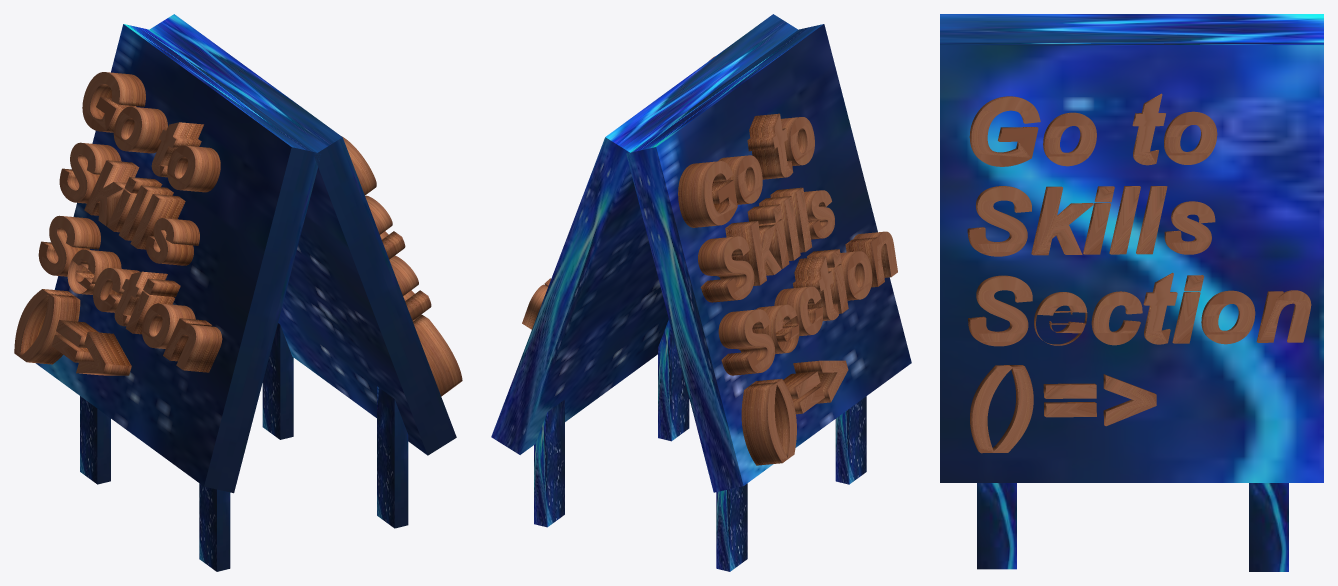
Rendered from banner.glb.
The picture shows the model from 3 angles, left to right: view 1: azimuth 30°, elevation 25°; view 2: azimuth 150°, elevation 25°; view 3: azimuth 270°, elevation 25°; orthographic projection. The views are drawn at different scales.
Visible parts, largest first — view 1: Cube.001, Text, Text.001, Cube.002, Cube.004, Cube, Cube.003; view 2: Cube.001, Text, Cube.004, Cube.002, Cube.003, Cube, Text.001; view 3: Cube.001, Text.001, Cube.004, Cube.002.
Boxes of the visible parts, x1,y1,x2,y2 form: Cube.001: (35, 14, 456, 493); Text: (14, 72, 222, 375); Text.001: (341, 136, 462, 396); Cube.002: (377, 386, 408, 528); Cube.004: (262, 323, 293, 439); Cube: (199, 483, 230, 571); Cube.003: (80, 396, 110, 484); Cube.001: (491, 14, 911, 492); Text: (678, 113, 897, 465); Cube.004: (534, 399, 564, 527); Cube.002: (658, 319, 689, 441); Cube.003: (716, 483, 747, 571); Cube: (835, 396, 866, 484); Text.001: (522, 56, 715, 329); Cube.001: (940, 14, 1323, 482); Text.001: (967, 93, 1311, 453); Cube.004: (1249, 483, 1288, 571); Cube.002: (977, 483, 1016, 569).
Size of the model in its own units: 3.49 by 4.59 by 3.31.
2 materials, 2 textured.
